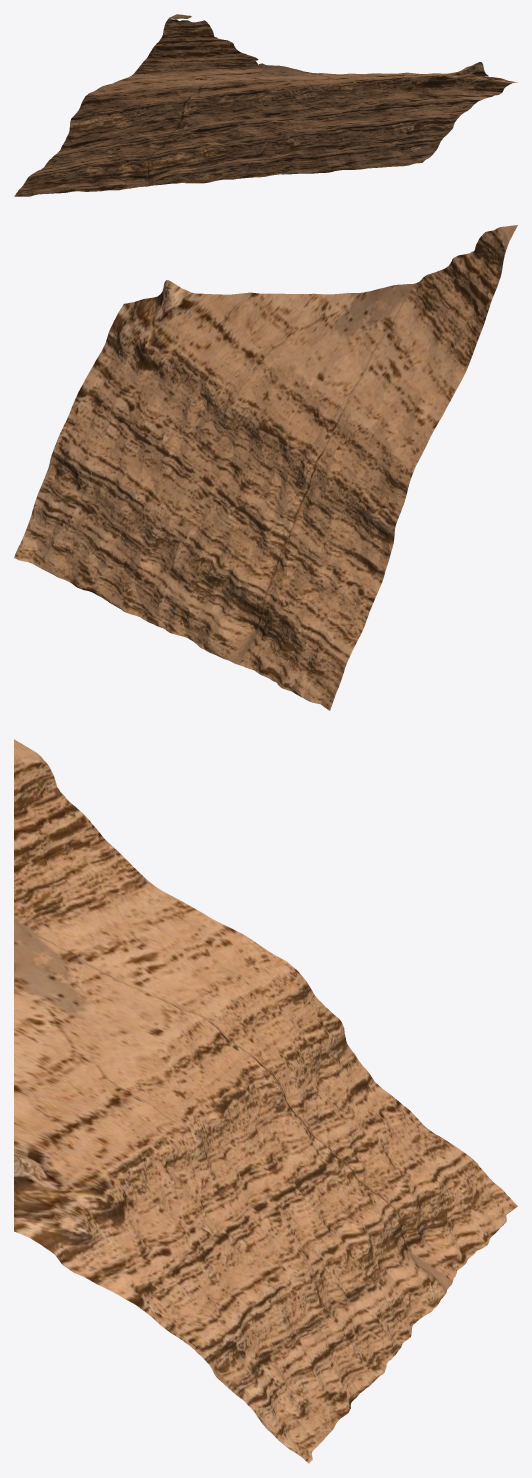
3 renders of one model, top to bottom at view 1: azimuth 30°, elevation 25°; view 2: azimuth 150°, elevation 25°; view 3: azimuth 270°, elevation 25°, orthographic. The views are drawn at different scales.
Size of the model in its own units: 1.04 by 0.8825 by 0.8631.
Materials: 2 (2 with a texture image).
